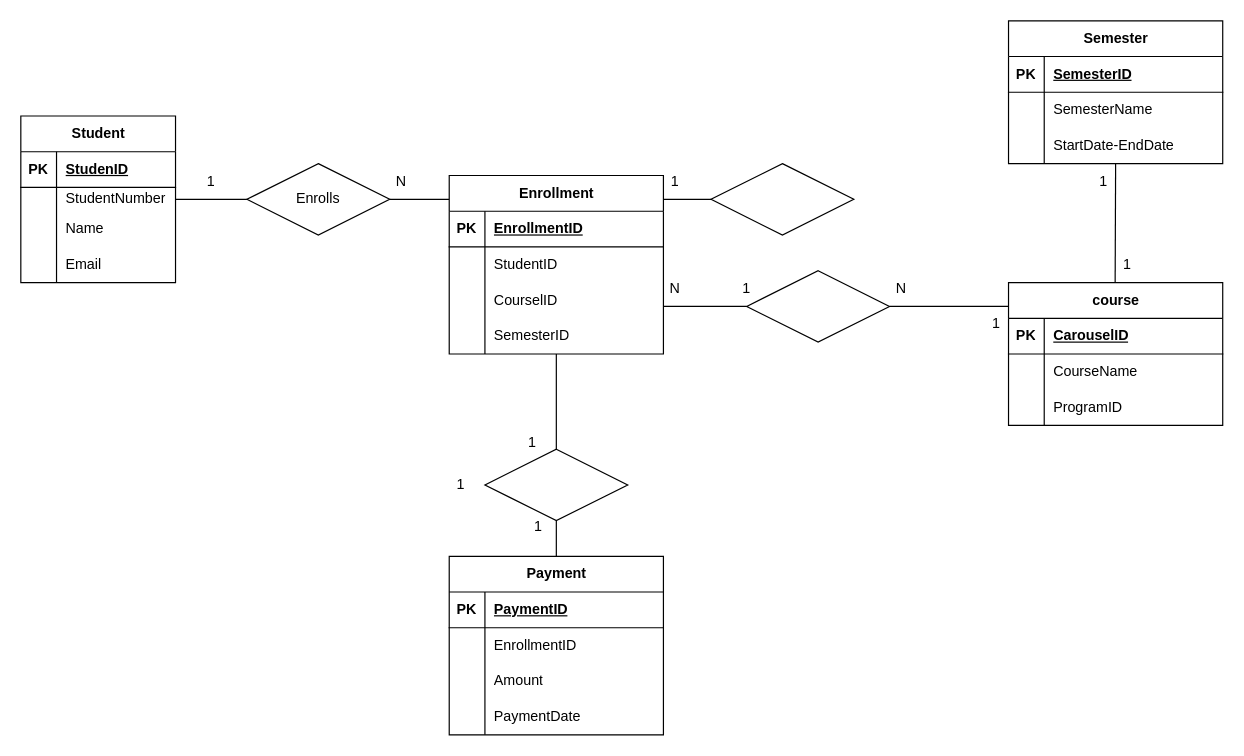
The diagram is 1244 pixels wide and 756 high, and some of its shapes have lost their labels. Here are the shapes that lost their labels. From the top down, the centre of each, then its label:
At point (782, 198): "Register".
At point (818, 306): "takes".
At point (556, 484): "Relationship".
